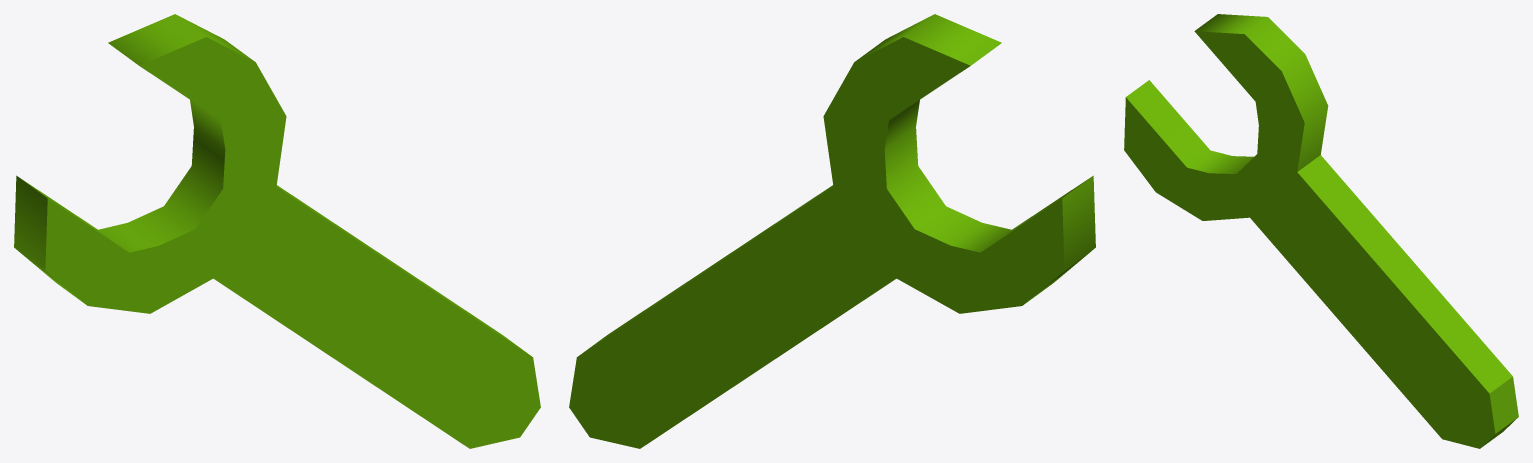
The model's file is spanner.fbx.
3 renders of one model, left to right at view 1: azimuth 30°, elevation 25°; view 2: azimuth 150°, elevation 25°; view 3: azimuth 330°, elevation 25°, orthographic. The views are drawn at different scales.
Parts seen in each view (by area): view 1: pCube4; view 2: pCube4; view 3: pCube4.
Part boxes in pixels (x1,y1,x2,y2): pCube4: (14, 14, 540, 448); pCube4: (569, 14, 1095, 448); pCube4: (1124, 14, 1518, 448).
Bounding box in the file's own units: 9.12 × 8.39 × 1.
